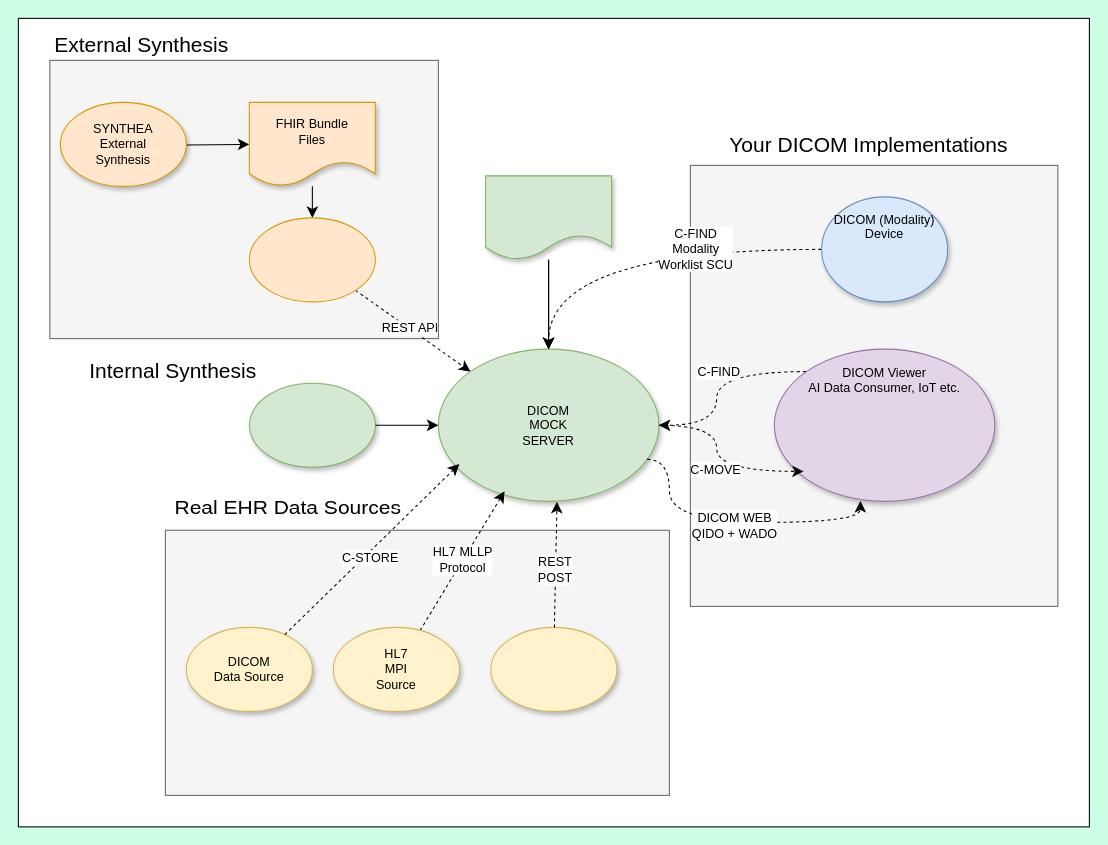
This 1108x845 diagram has some shape labels left out. Here are the shapes that lost their labels. From the top down, the centre of each, then its label:
At point (549, 219): "DICOM Template Objects".
At point (311, 259): "UPLOADER".
At point (313, 426): "MWL Generator Synthesizer".
At point (554, 670): "FHIRService Request Imaging Order".
